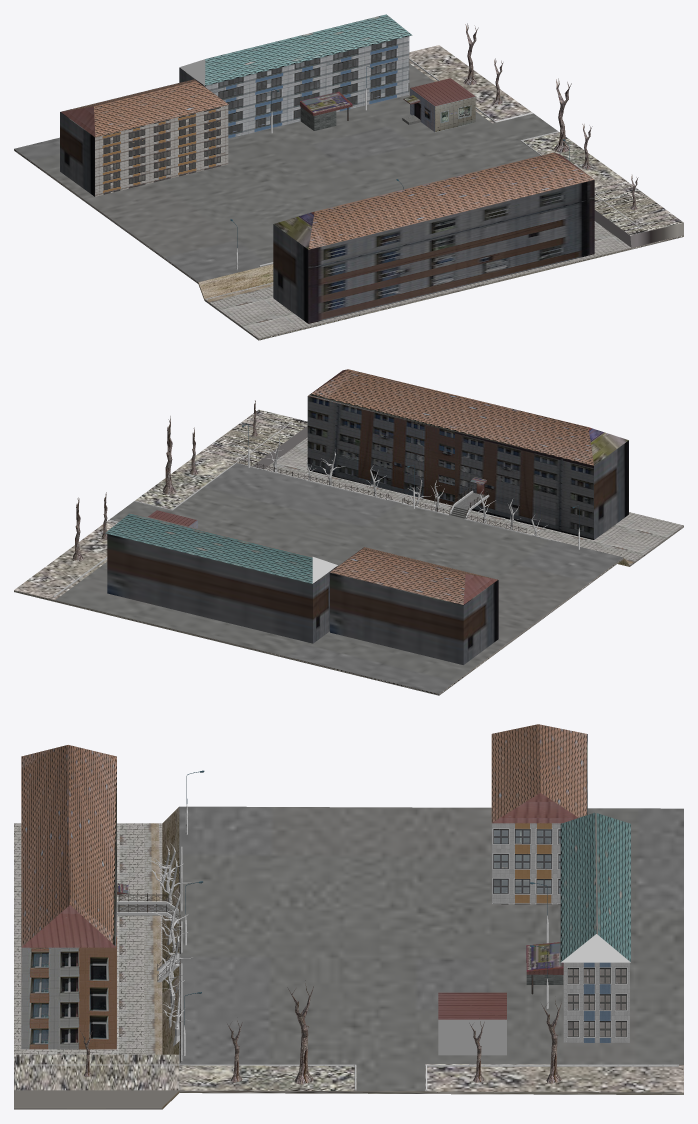
File: 8UKCut1.fbx
The picture shows the model from 3 angles, top to bottom: view 1: azimuth 30°, elevation 25°; view 2: azimuth 150°, elevation 25°; view 3: azimuth 270°, elevation 25°; orthographic projection. The views are drawn at different scales.
Parts seen in each view (by area): view 1: Cube, Cube.001, Cube.031, Cube.025, Cube.037, Cube.034, Cube.028, Cube.039, Cube.011, Cube.010, Cube.009, Cube.042 (+6 smaller); view 2: Cube, Cube.001, Cube.021, Cube.024, Cube.022, Cube.028, Cube.034, Cube.039, Cube.011, Cube.010, Cube.005, Cube.026 (+2 smaller); view 3: Cube, Cube.028, Cube.020, Cube.034, Cube.025, Cube.024, Cube.039, Cube.011, Cube.010, Cube.036, Cube.032, Cube.009 (+12 smaller).
Part boxes in pixels (x1=…): Cube: x1=14, y1=63, x2=683, y2=340; Cube.001: x1=60, y1=67, x2=594, y2=323; Cube.031: x1=203, y1=36, x2=409, y2=138; Cube.025: x1=308, y1=152, x2=594, y2=249; Cube.037: x1=95, y1=105, x2=228, y2=196; Cube.034: x1=205, y1=14, x2=412, y2=85; Cube.028: x1=205, y1=221, x2=630, y2=338; Cube.039: x1=63, y1=79, x2=228, y2=137; Cube.011: x1=409, y1=45, x2=533, y2=123; Cube.010: x1=523, y1=132, x2=623, y2=185; Cube.009: x1=198, y1=264, x2=273, y2=300; Cube.042: x1=410, y1=78, x2=475, y2=106; Cube: x1=14, y1=409, x2=683, y2=695; Cube.001: x1=107, y1=440, x2=628, y2=664; Cube.021: x1=307, y1=396, x2=454, y2=505; Cube.024: x1=308, y1=369, x2=593, y2=465; Cube.022: x1=455, y1=432, x2=593, y2=539; Cube.028: x1=264, y1=437, x2=683, y2=564; Cube.034: x1=105, y1=512, x2=312, y2=583; Cube.039: x1=330, y1=547, x2=495, y2=604; Cube.011: x1=14, y1=520, x2=117, y2=599; Cube.010: x1=135, y1=453, x2=235, y2=509; Cube.005: x1=267, y1=434, x2=547, y2=536; Cube.026: x1=588, y1=427, x2=628, y2=465; Cube: x1=14, y1=806, x2=683, y2=1109; Cube.028: x1=14, y1=823, x2=162, y2=1063; Cube.020: x1=21, y1=947, x2=116, y2=1049; Cube.034: x1=560, y1=812, x2=630, y2=961; Cube.025: x1=21, y1=745, x2=69, y2=947; Cube.024: x1=68, y1=745, x2=116, y2=947; Cube.039: x1=491, y1=724, x2=586, y2=822; Cube.011: x1=425, y1=1064, x2=683, y2=1092; Cube.010: x1=179, y1=1065, x2=683, y2=1094; Cube.036: x1=492, y1=823, x2=561, y2=904; Cube.032: x1=563, y1=962, x2=629, y2=1042; Cube.009: x1=162, y1=807, x2=179, y2=1109.
Size of the model in its own units: 23407 by 5238 by 23344.
